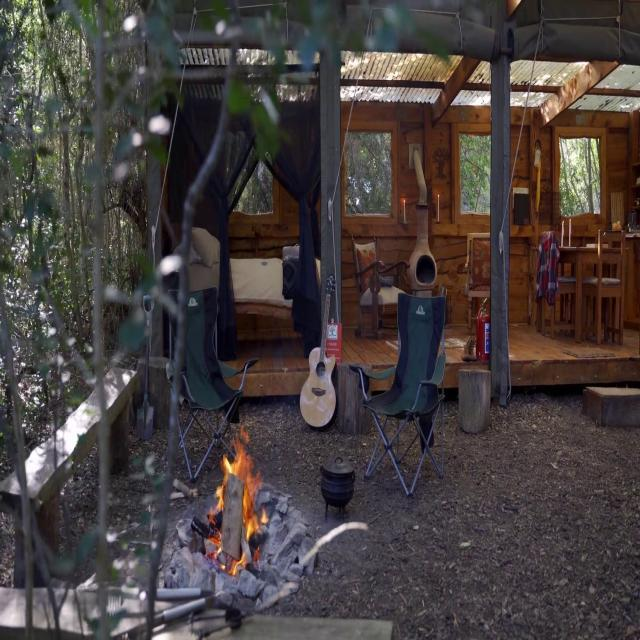Fire: (208, 424, 265, 576)
